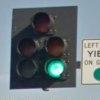traffic lights: (42, 36, 69, 84), (14, 35, 40, 80), (31, 10, 56, 35)
